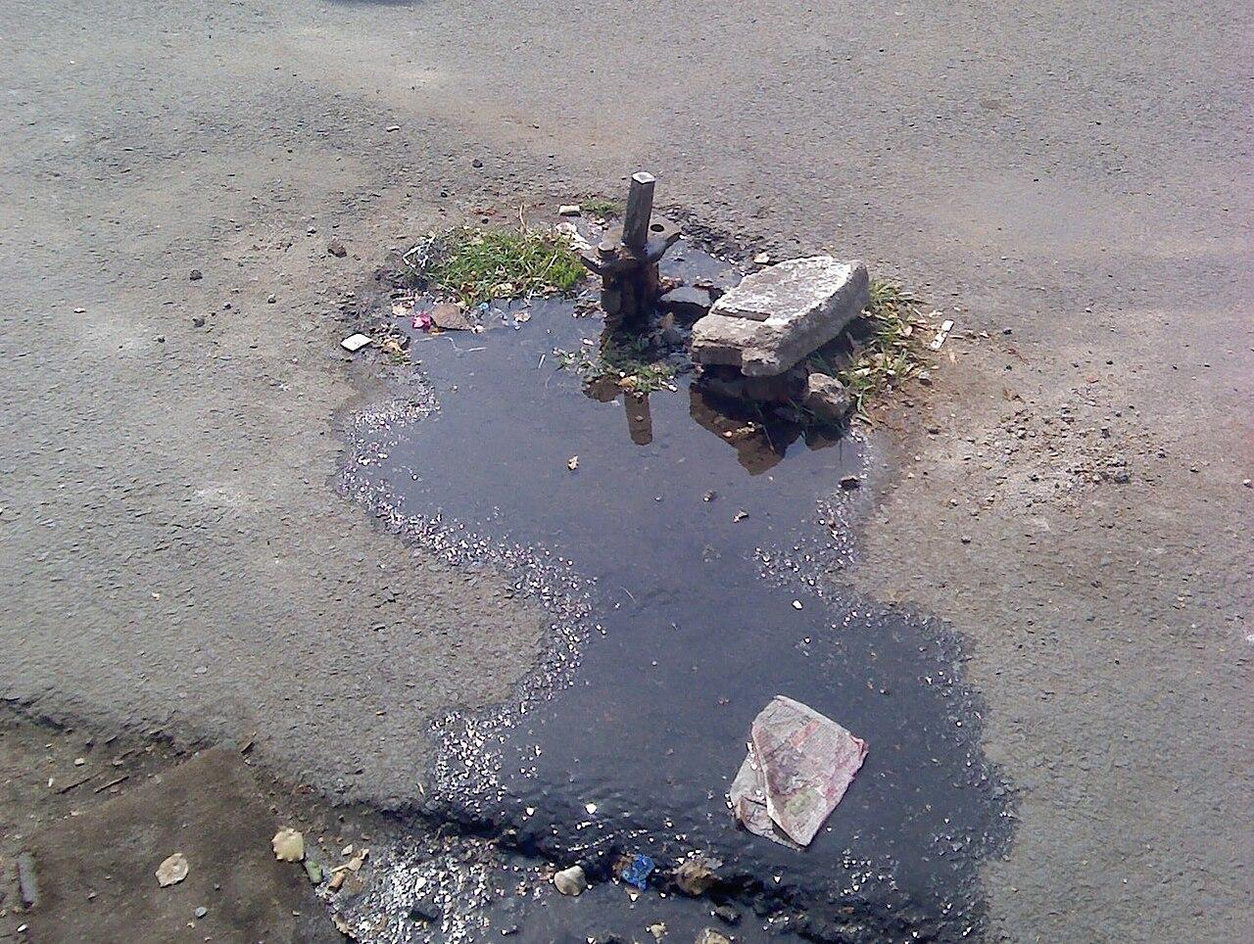water accumulation: (336, 201, 1012, 944)
